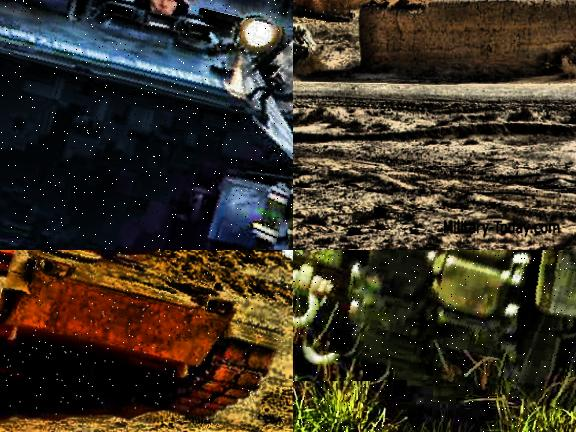tanks: (1, 1, 294, 251), (1, 251, 283, 421), (294, 251, 576, 381), (295, 3, 340, 23), (294, 25, 313, 70)
